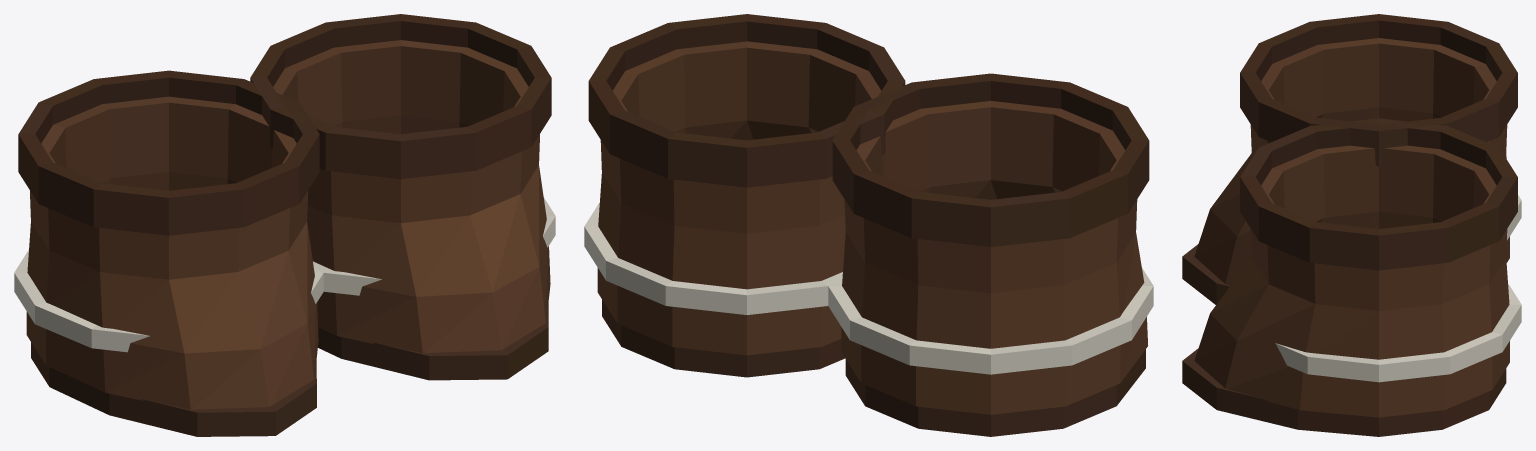
Rendered from armor_feet_boots.glb.
3 views of the same model, side by side, from view 1: azimuth 30°, elevation 25°; view 2: azimuth 150°, elevation 25°; view 3: azimuth 270°, elevation 25° (orthographic). The views are drawn at different scales.
Visible parts, largest first — view 1: armor_feet_boots_R, armor_feet_boots; view 2: armor_feet_boots_R, armor_feet_boots; view 3: armor_feet_boots, armor_feet_boots_R.
Part boxes in pixels (bbox=[...]): armor_feet_boots_R: bbox=[14, 70, 323, 436]; armor_feet_boots: bbox=[250, 14, 555, 380]; armor_feet_boots_R: bbox=[828, 73, 1153, 436]; armor_feet_boots: bbox=[584, 14, 905, 377]; armor_feet_boots: bbox=[1182, 118, 1521, 436]; armor_feet_boots_R: bbox=[1182, 14, 1521, 304].
Bounding box in the file's own units: 0.69 × 0.295 × 0.44.
